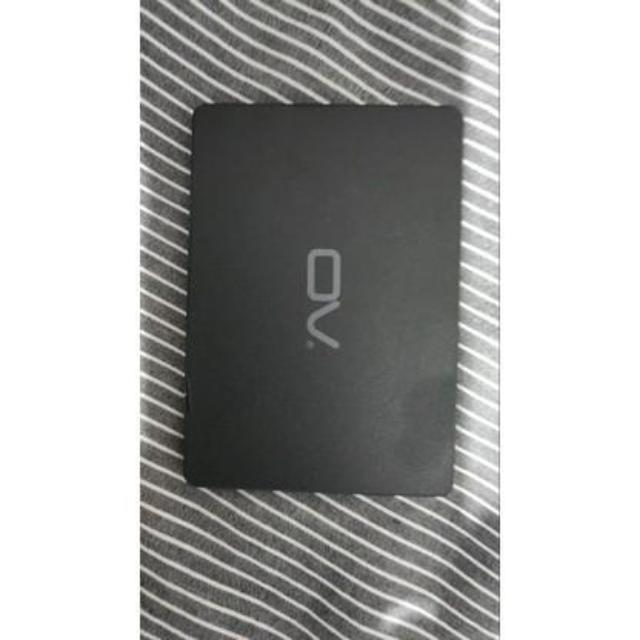DISK: (190, 105, 462, 500)
